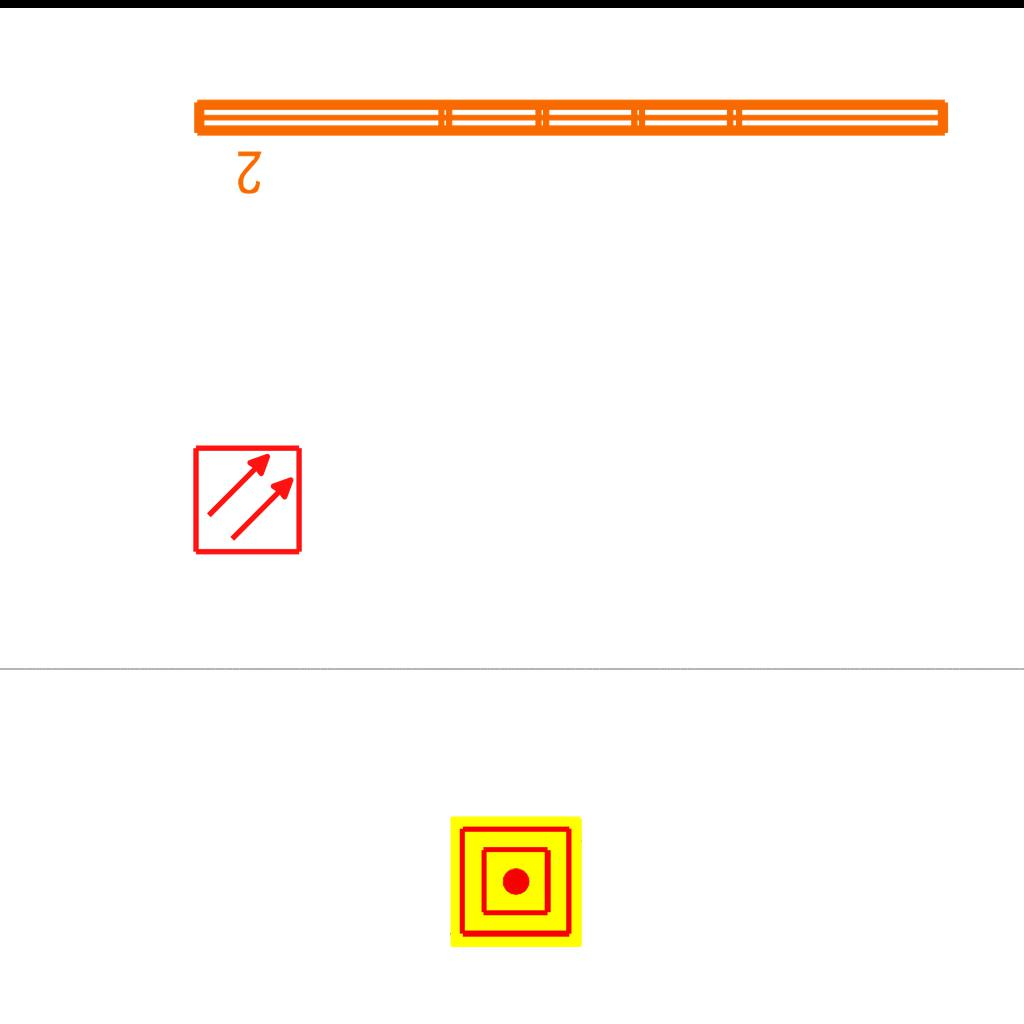Ambulanz_Pendelleuchte_LED: (185, 87, 959, 199)
NAM-Nichtautomatischer_Melder: (450, 816, 582, 948)
RMO_Rauchmelder_optischer: (191, 443, 304, 556)
